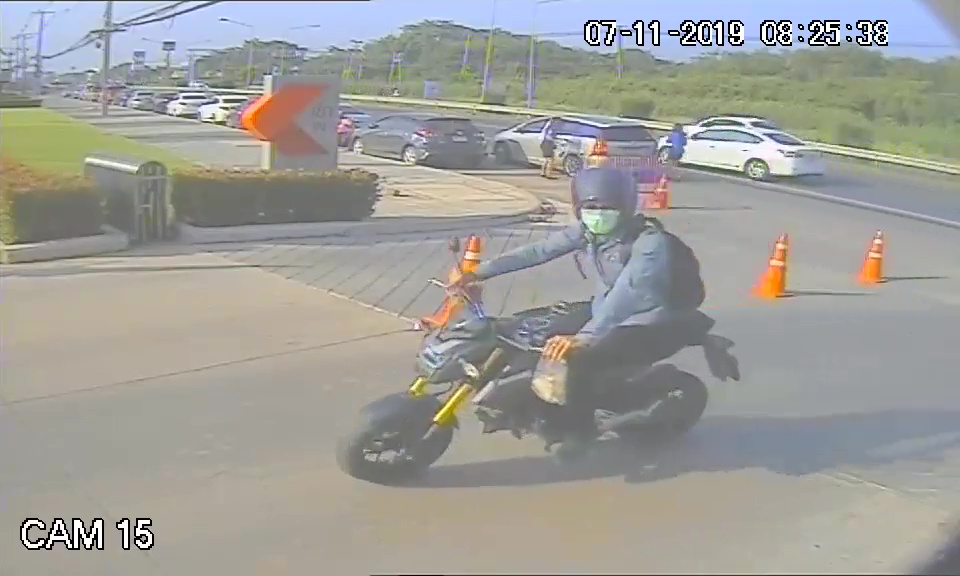motorcycle: (336, 286, 746, 485)
